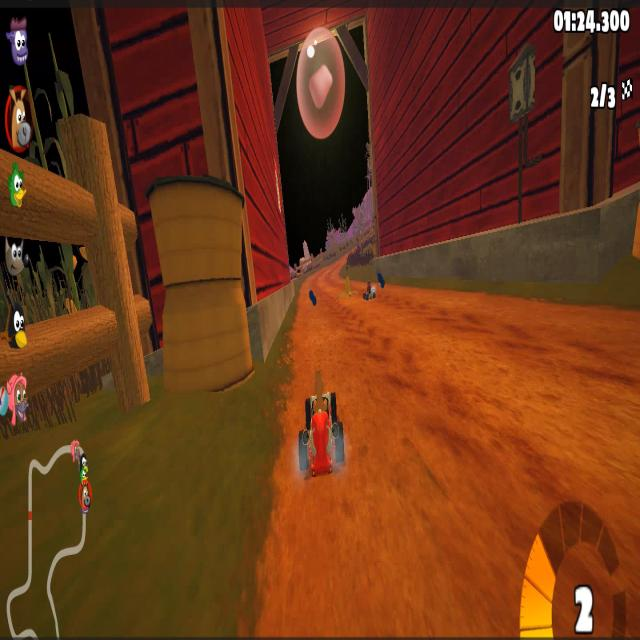enemy_kart: (361, 277, 376, 302)
nitro: (306, 287, 317, 308)
off_track: (140, 43, 266, 544)
player_kart: (295, 362, 348, 481)
track: (363, 366, 640, 444), (298, 315, 461, 370), (316, 253, 348, 284)
